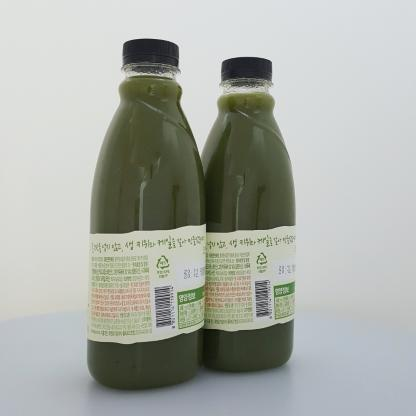-----------700ML: (87, 39, 205, 391), (198, 57, 295, 373)
